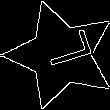L_W: (31, 32, 91, 78)
